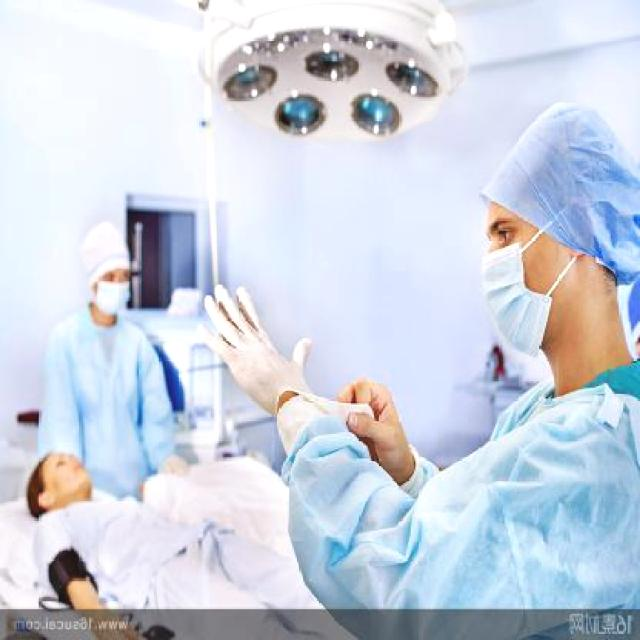face_mask: (468, 202, 583, 352), (85, 264, 132, 318)
face_nomask: (43, 446, 94, 497)
hand_glove: (189, 285, 317, 406)
hand_noglove: (337, 375, 415, 474)
person: (202, 87, 640, 640), (42, 211, 163, 529)
